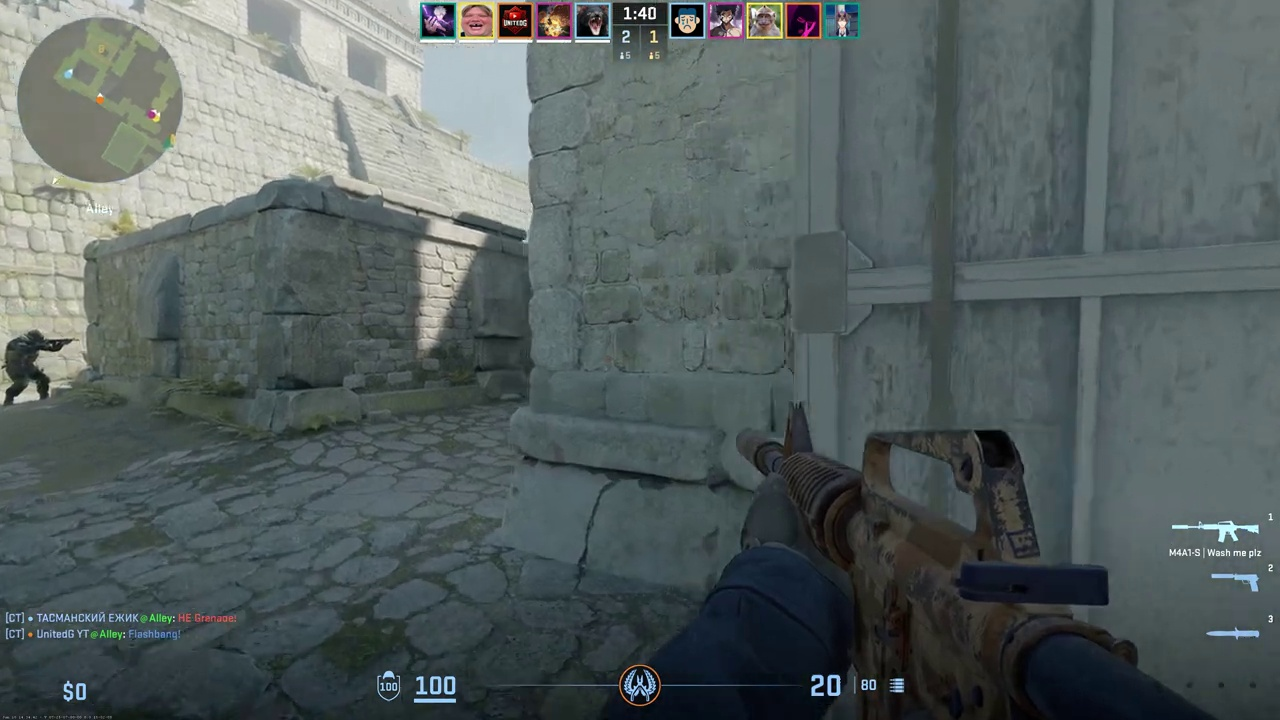CT: (5, 330, 56, 404)
